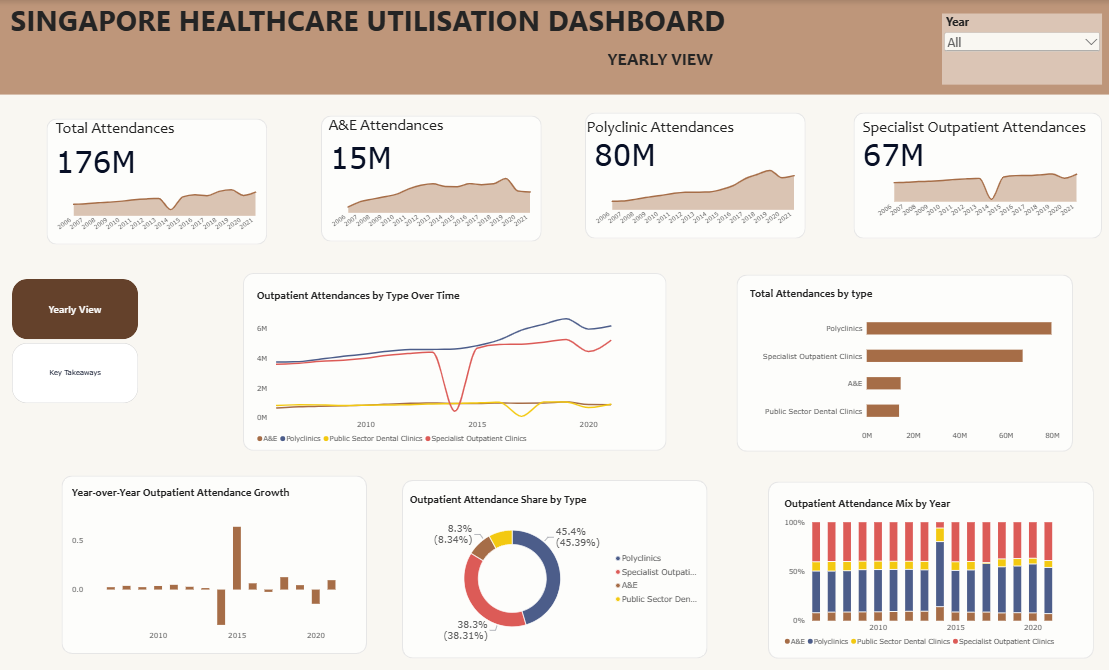

The page's visual inventory and layout, read from the dashboard file:
{"tool":"powerbi","page":{"name":"Yearly View","canvas":[2300,1400],"ordinal":0},"visuals":[{"type":"shape","box":[0,0,2300,195],"z":0},{"type":"textbox","box":[1260,100,233.3,50],"z":1000},{"type":"textbox","box":[27.8,0,1496.7,93.3],"z":2000},{"type":"slicer","fields":{"Values":["Outpatient_Attendances_data.year"]},"box":[1950,26.7,330,146.7],"z":3000},{"type":"shape","box":[103.3,245.4,455,260],"z":4000},{"type":"cardVisual","fields":{"Data":["Outpatient_Attendances_data.Total Attendances"]},"box":[106,292,252,84],"z":5000},{"type":"textbox","box":[120.3,245.4,264,54],"z":6000},{"type":"areaChart","fields":{"Category":["Outpatient_Attendances_data.year"],"Y":["Outpatient_Attendances_data.Total Attendances"]},"box":[106.3,333.4,454,172],"z":7000},{"type":"shape","box":[667.7,239.6,455,260],"z":8000},{"type":"cardVisual","fields":{"Data":["Outpatient_Attendances_data.A&E Attendances"]},"box":[670.7,285.6,184,82],"z":9000},{"type":"textbox","box":[684.7,239.6,264,54],"z":10000},{"type":"areaChart","fields":{"Category":["Outpatient_Attendances_data.year"],"Y":["Outpatient_Attendances_data.A&E Attendances"]},"box":[670.7,327.6,454,172],"z":11000},{"type":"shape","box":[1211.2,232.9,455,260],"z":12000},{"type":"cardVisual","fields":{"Data":["Outpatient_Attendances_data.Polyclinic Attendances"]},"box":[1214.2,278.9,184,82],"z":13000},{"type":"areaChart","fields":{"Category":["Outpatient_Attendances_data.year"],"Y":["Outpatient_Attendances_data.Polyclinic Attendances"]},"box":[1214.2,320.9,454,172],"z":14000},{"type":"shape","box":[1767.5,232.5,512.5,260],"z":15000},{"type":"cardVisual","fields":{"Data":["Outpatient_Attendances_data.Specialist Outpatient Attendances"]},"box":[1770,278,184,82],"z":16000},{"type":"textbox","box":[1785,242.5,480,52.5],"z":17000},{"type":"areaChart","fields":{"Category":["Outpatient_Attendances_data.year"],"Y":["Outpatient_Attendances_data.Specialist Outpatient Attendances"]},"box":[1797.5,327.5,455,150],"z":18000},{"type":"textbox","box":[1215,242.5,325,55],"z":19000},{"type":"shape","box":[507.6,563.6,873.3,366.7],"z":20000},{"type":"lineChart","title":"Outpatient Attendances by Type Over Time","fields":{"Category":["Outpatient_Attendances_data.year"],"Series":["Outpatient_Attendances_data.type"],"Y":["Outpatient_Attendances_data.Total Attendances"]},"box":[521,580.3,826.7,353.3],"z":21000},{"type":"shape","box":[834.4,990.6,630,368],"z":22000},{"type":"donutChart","title":"Outpatient Attendance Share by Type","fields":{"Category":["Outpatient_Attendances_data.type"],"Y":["Outpatient_Attendances_data.Attendance Share %"]},"box":[834.4,1003.1,636.7,340],"z":23000},{"type":"shape","box":[1590.6,993.8,671.9,365.6],"z":24000},{"type":"shape","box":[133.3,980,630,368],"z":25000},{"type":"shape","box":[1525,565.6,693.8,365.6],"z":26000},{"type":"hundredPercentStackedColumnChart","title":"Outpatient Attendance Mix by Year","fields":{"Category":["Outpatient_Attendances_data.year"],"Series":["Outpatient_Attendances_data.type"],"Y":["Outpatient_Attendances_data.Total Attendances"]},"box":[1612.5,1012.5,621.9,337.5],"z":27000},{"type":"clusteredColumnChart","title":"Year-over-Year Outpatient Attendance Growth","fields":{"Category":["Outpatient_Attendances_data.year"],"Y":["Outpatient_Attendances_data.YoY Growth %"]},"box":[141,988.6,612.9,345.7],"z":28000},{"type":"clusteredBarChart","fields":{"Category":["Outpatient_Attendances_data.type"],"Y":["Outpatient_Attendances_data.Total Attendances"]},"box":[1540.6,578.1,662.5,343.8],"z":29000},{"type":"pageNavigator","box":[30,574,260,256],"z":29001}]}

Visuals, with their boxes in screenshot pixels (x1, y1, x2, y2), scaled from the page's 2300x1400 canvas onto the 1109x670 screenshot:
shape: locate(0, 0, 1108, 93)
textbox: locate(608, 48, 720, 72)
textbox: locate(13, 0, 735, 45)
slicer - Outpatient_Attendances_data.year: locate(940, 13, 1099, 83)
shape: locate(50, 117, 269, 242)
cardVisual - Outpatient_Attendances_data.Total Attendances: locate(51, 140, 173, 180)
textbox: locate(58, 117, 185, 143)
areaChart - Outpatient_Attendances_data.year x Outpatient_Attendances_data.Total Attendances: locate(51, 160, 270, 242)
shape: locate(322, 115, 541, 239)
cardVisual - Outpatient_Attendances_data.A&E Attendances: locate(323, 137, 412, 176)
textbox: locate(330, 115, 457, 141)
areaChart - Outpatient_Attendances_data.year x Outpatient_Attendances_data.A&E Attendances: locate(323, 157, 542, 239)
shape: locate(584, 111, 803, 236)
cardVisual - Outpatient_Attendances_data.Polyclinic Attendances: locate(585, 133, 674, 173)
areaChart - Outpatient_Attendances_data.year x Outpatient_Attendances_data.Polyclinic Attendances: locate(585, 154, 804, 236)
shape: locate(852, 111, 1099, 236)
cardVisual - Outpatient_Attendances_data.Specialist Outpatient Attendances: locate(853, 133, 942, 172)
textbox: locate(861, 116, 1092, 141)
areaChart - Outpatient_Attendances_data.year x Outpatient_Attendances_data.Specialist Outpatient Attendances: locate(867, 157, 1086, 229)
textbox: locate(586, 116, 743, 142)
shape: locate(245, 270, 666, 445)
"Outpatient Attendances by Type Over Time" lineChart: locate(251, 278, 650, 447)
shape: locate(402, 474, 706, 650)
"Outpatient Attendance Share by Type" donutChart: locate(402, 480, 709, 643)
shape: locate(767, 476, 1091, 651)
shape: locate(64, 469, 368, 645)
shape: locate(735, 271, 1070, 446)
"Outpatient Attendance Mix by Year" hundredPercentStackedColumnChart: locate(778, 485, 1077, 646)
"Year-over-Year Outpatient Attendance Growth" clusteredColumnChart: locate(68, 473, 364, 639)
clusteredBarChart - Outpatient_Attendances_data.type x Outpatient_Attendances_data.Total Attendances: locate(743, 277, 1062, 441)
pageNavigator: locate(14, 275, 140, 397)
